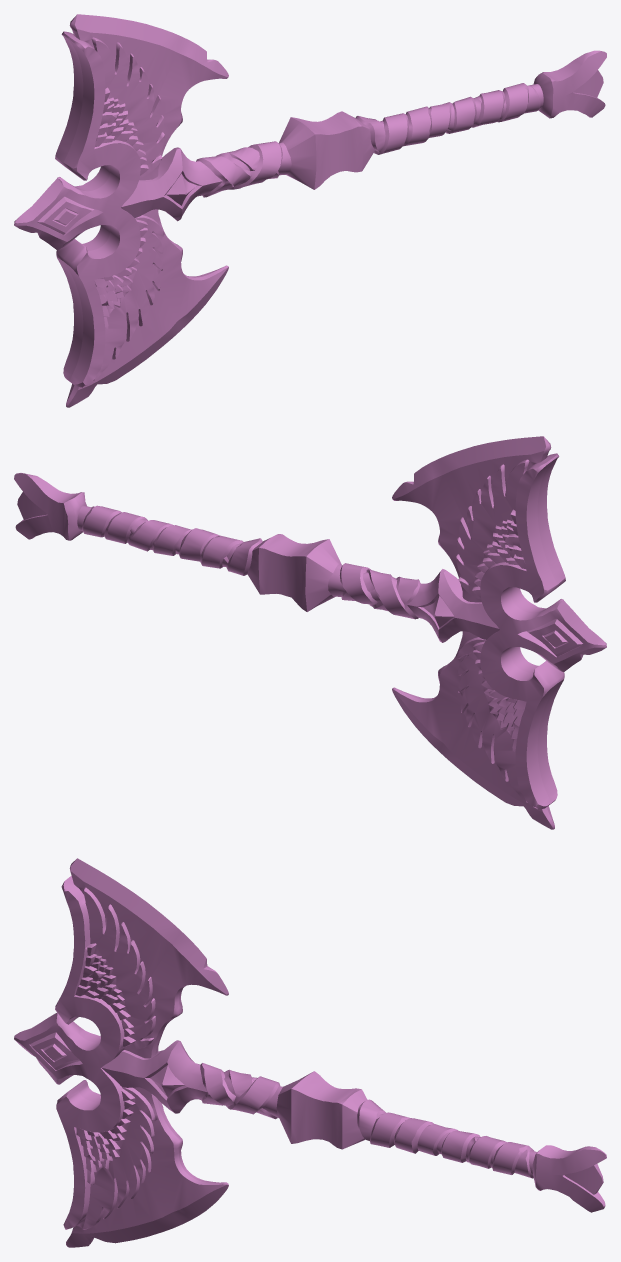
The model's file is SM_Rune_Two_Handed_Poleaxe_3.fbx.
3 views of the same model, one above another, from view 1: azimuth 30°, elevation 25°; view 2: azimuth 150°, elevation 25°; view 3: azimuth 330°, elevation 25° (orthographic).
Parts seen in each view (by area): view 1: SM_Rune_Two_Handed_Poleaxe_3; view 2: SM_Rune_Two_Handed_Poleaxe_3; view 3: SM_Rune_Two_Handed_Poleaxe_3.
Boxes of the visible parts, left/top/right/bottom form: SM_Rune_Two_Handed_Poleaxe_3: left=14, top=14, right=606, bottom=407; SM_Rune_Two_Handed_Poleaxe_3: left=14, top=436, right=606, bottom=829; SM_Rune_Two_Handed_Poleaxe_3: left=14, top=858, right=606, bottom=1247.
Size of the model in its own units: 0.8376 by 0.5289 by 0.0616.
